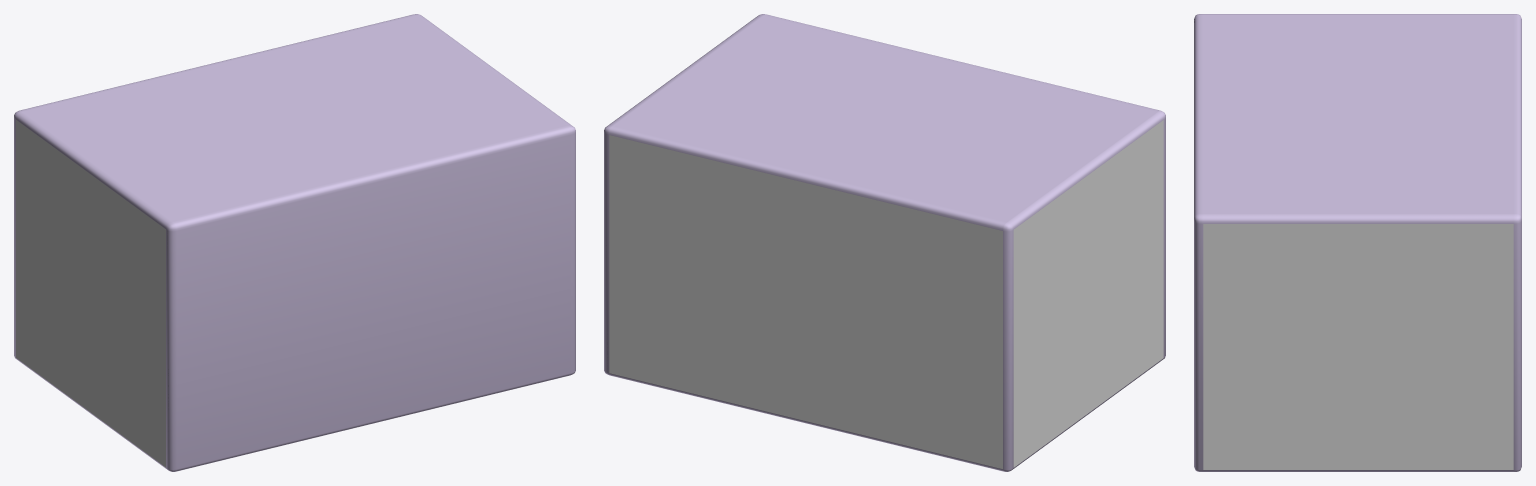
The model's file is food-display-glass.fbx.
3 renders of one model, left to right at view 1: azimuth 30°, elevation 25°; view 2: azimuth 150°, elevation 25°; view 3: azimuth 270°, elevation 25°, orthographic. The views are drawn at different scales.
Visible parts, largest first — view 1: glass-display, glass-display.001, glass-display-right; view 2: glass-display-front, glass-display, glass-display-right, glass-display.001; view 3: glass-display-left, glass-display, glass-display.001.
Part boxes in pixels (x1,y1,x2,y2): glass-display: (14,14,575,471); glass-display.001: (14,15,575,470); glass-display-right: (16,120,165,467); glass-display-front: (609,135,1002,468); glass-display: (604,14,1165,471); glass-display-right: (1013,120,1163,467); glass-display.001: (604,14,1165,471); glass-display-left: (1203,224,1513,469); glass-display: (1194,14,1521,471); glass-display.001: (1194,14,1521,471).
Size of the model in its own units: 2807 by 1633 by 1890.
